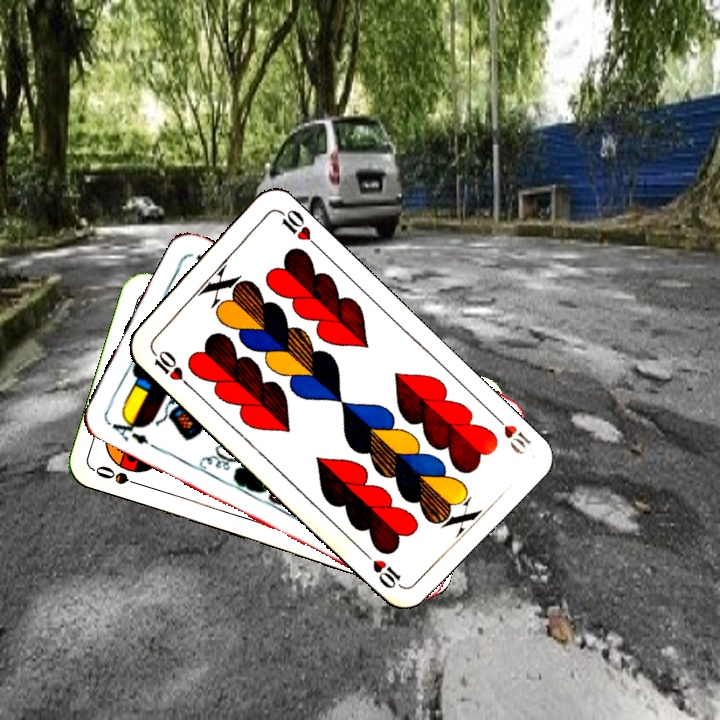EA: (103, 411, 152, 447)
H10: (487, 408, 534, 458), (146, 343, 193, 389)
SO: (91, 461, 149, 490)
